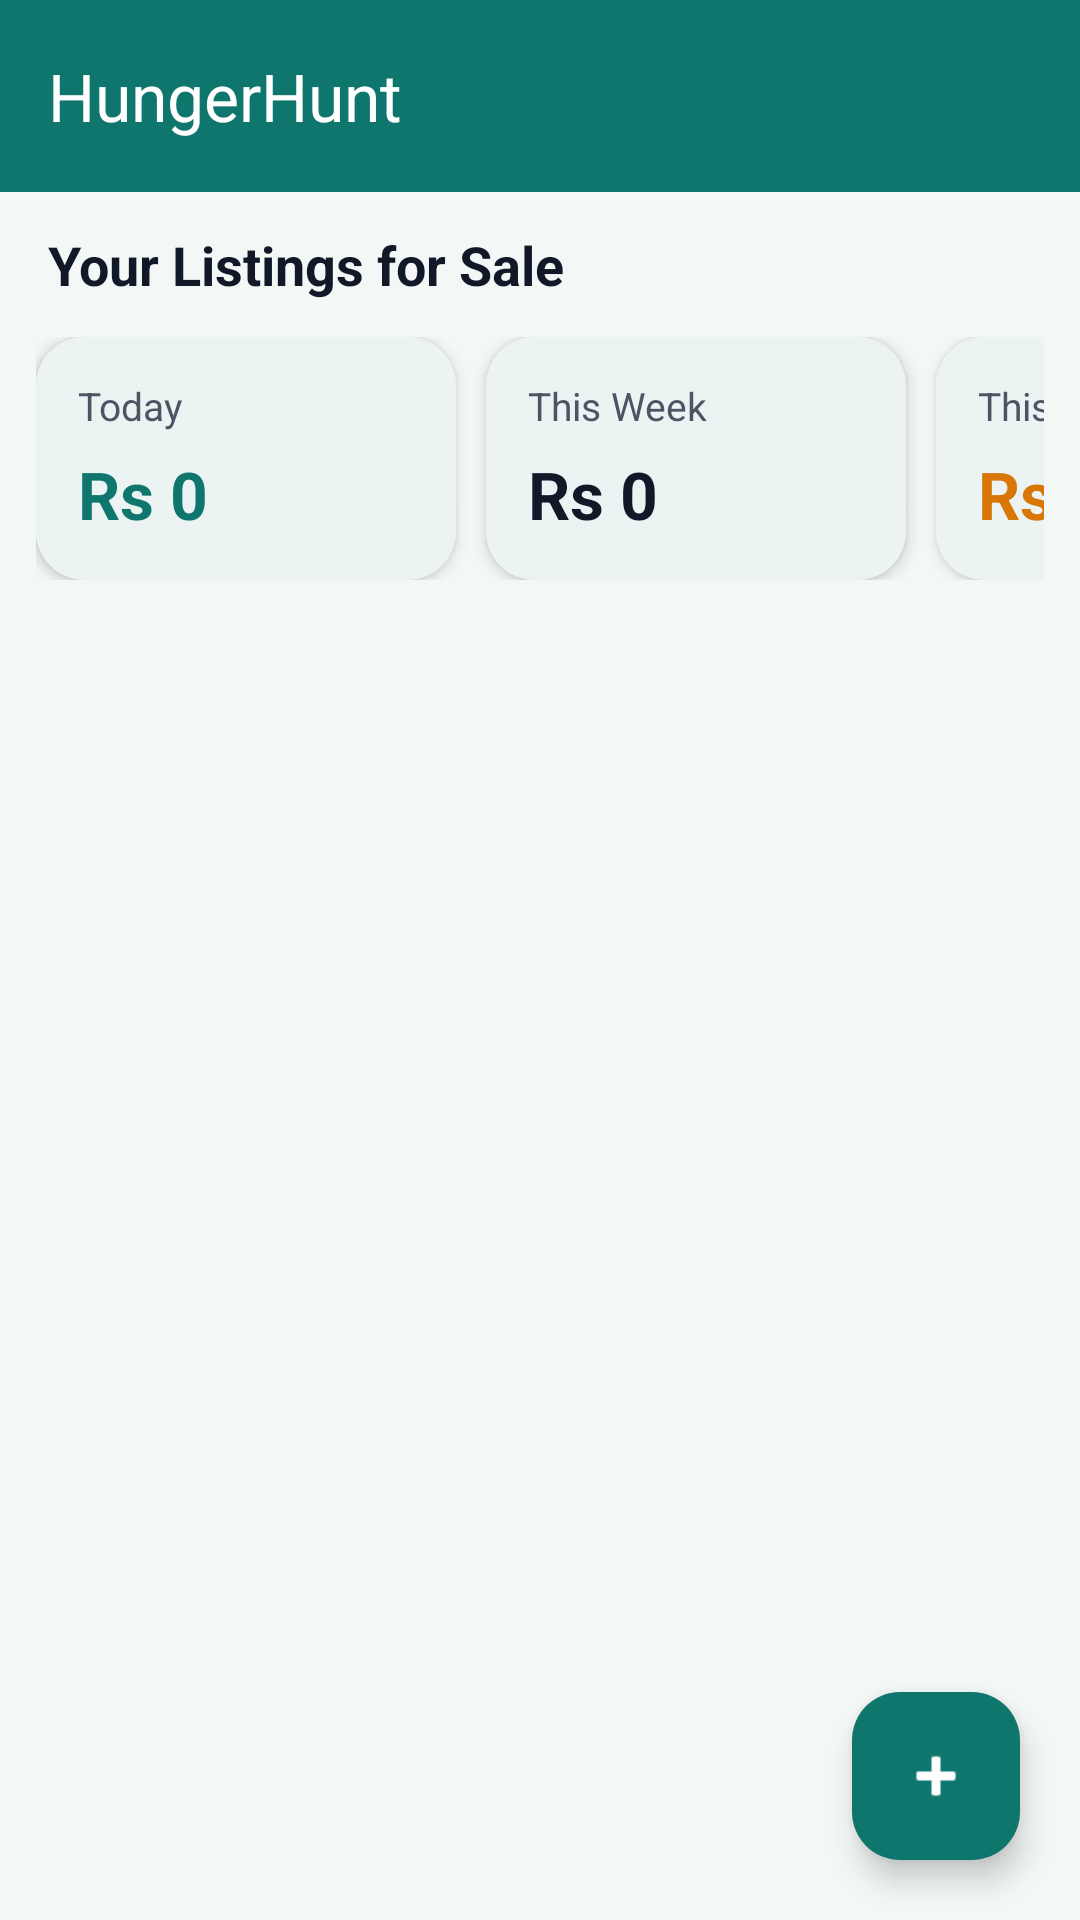

Where icons sit on this 1080*1920 app screen, as rect(x1, y1, x2, y2):
Add Listing: rect(852, 1692, 1020, 1860)
